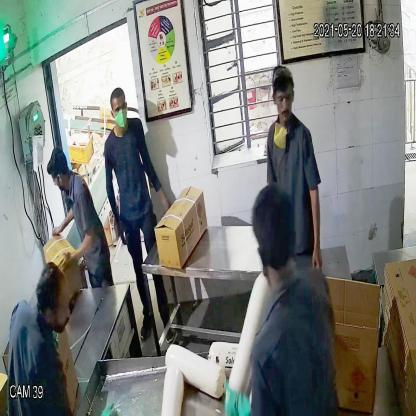no_goggles: (273, 87, 297, 107), (110, 99, 130, 117)
